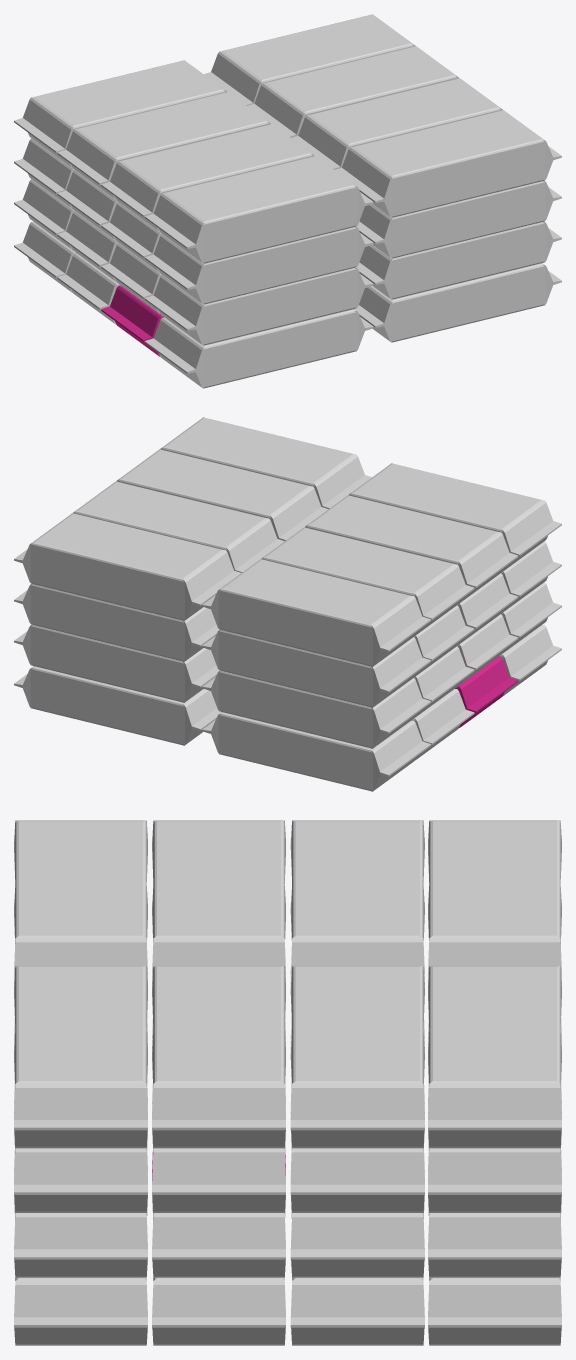
File: Galletitas Amor Vainilla.fbx
3 renders of one model, top to bottom at view 1: azimuth 30°, elevation 25°; view 2: azimuth 150°, elevation 25°; view 3: azimuth 270°, elevation 25°, orthographic. The views are drawn at different scales.
Parts seen in each view (by area): view 1: Galletitas Amor.028, Galletitas Amor.024, Galletitas Amor.004, Galletitas Amor.012, Galletitas Amor.020, Galletitas Amor.030, Galletitas Amor.029, Galletitas Amor.031, Galletitas Amor, Galletitas Amor.026, Galletitas Amor.025, Galletitas Amor.027 (+11 smaller); view 2: Galletitas Amor.031, Galletitas Amor.027, Galletitas Amor.007, Galletitas Amor.015, Galletitas Amor.023, Galletitas Amor.029, Galletitas Amor.028, Galletitas Amor.030, Galletitas Amor.003, Galletitas Amor.025, Galletitas Amor.024, Galletitas Amor.026 (+11 smaller); view 3: Galletitas Amor.026, Galletitas Amor.024, Galletitas Amor.027, Galletitas Amor.025, Galletitas Amor.030, Galletitas Amor.028, Galletitas Amor.029, Galletitas Amor.031, Galletitas Amor.002, Galletitas Amor.001, Galletitas Amor, Galletitas Amor.003 (+8 smaller).
Part boxes in pixels (<box>): Galletitas Amor.028: <box>144,156,373,263</box>; Galletitas Amor.024: <box>335,110,561,217</box>; Galletitas Amor.004: <box>144,309,373,388</box>; Galletitas Amor.012: <box>144,267,373,345</box>; Galletitas Amor.020: <box>144,227,373,304</box>; Galletitas Amor.030: <box>57,92,270,199</box>; Galletitas Amor.029: <box>101,124,314,231</box>; Galletitas Amor.031: <box>14,60,226,167</box>; Galletitas Amor: <box>354,263,561,342</box>; Galletitas Amor.026: <box>247,46,458,137</box>; Galletitas Amor.025: <box>291,78,502,169</box>; Galletitas Amor.027: <box>204,14,415,105</box>; Galletitas Amor.031: <box>202,559,431,666</box>; Galletitas Amor.027: <box>14,513,240,620</box>; Galletitas Amor.007: <box>202,712,431,791</box>; Galletitas Amor.015: <box>202,670,431,748</box>; Galletitas Amor.023: <box>202,630,431,707</box>; Galletitas Amor.029: <box>305,495,518,603</box>; Galletitas Amor.028: <box>349,463,561,571</box>; Galletitas Amor.030: <box>261,527,474,634</box>; Galletitas Amor.003: <box>14,666,221,745</box>; Galletitas Amor.025: <box>117,449,328,541</box>; Galletitas Amor.024: <box>160,417,371,508</box>; Galletitas Amor.026: <box>73,481,284,572</box>; Galletitas Amor.026: <box>290,965,424,1148</box>; Galletitas Amor.024: <box>14,965,147,1148</box>; Galletitas Amor.027: <box>428,965,561,1148</box>; Galletitas Amor.025: <box>152,965,285,1148</box>; Galletitas Amor.030: <box>290,820,424,983</box>; Galletitas Amor.028: <box>14,820,147,983</box>; Galletitas Amor.029: <box>152,820,285,983</box>; Galletitas Amor.031: <box>428,820,561,983</box>; Galletitas Amor.002: <box>290,1181,424,1345</box>; Galletitas Amor.001: <box>152,1181,285,1345</box>; Galletitas Amor: <box>14,1195,147,1345</box>; Galletitas Amor.003: <box>428,1195,561,1345</box>.
Bounding box in the file's own units: 29.34 × 12.47 × 23.48.
